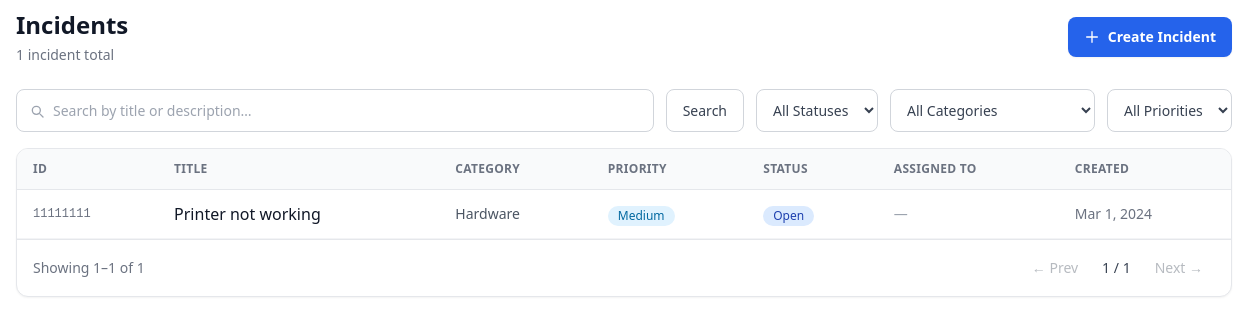
IncidentListPage › shows Clear filters button when a filter is active
Select "Open" in the dropdown named "filter by status" at (817, 110), box [756,89,878,132]
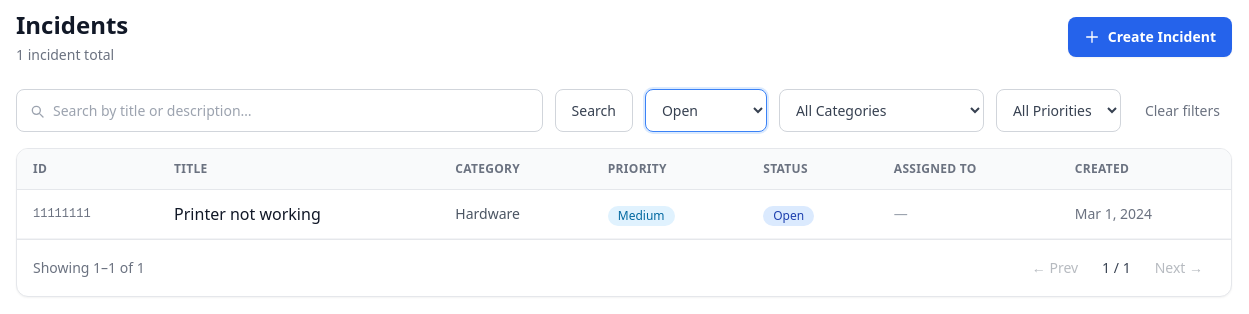
Result: the button with aria-label "clear all filters" is shown at [1133,89,1232,132]
